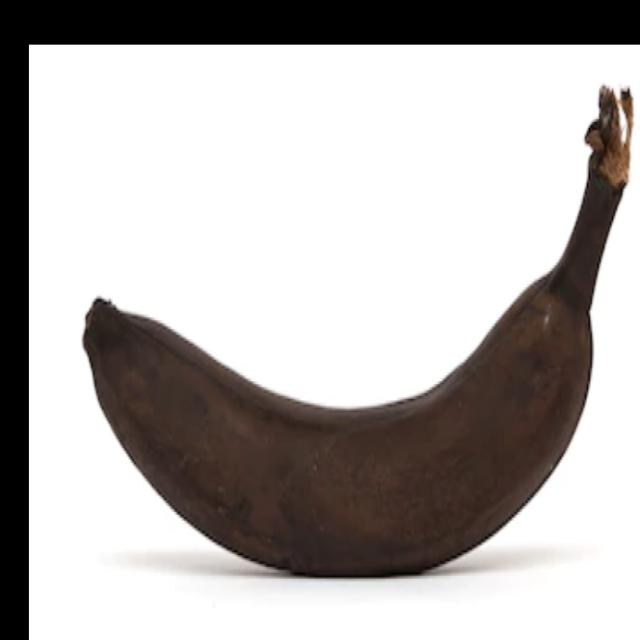Rotten: (64, 63, 640, 595)
